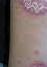plaque psoriasis: (16, 0, 47, 17), (28, 62, 47, 67)
